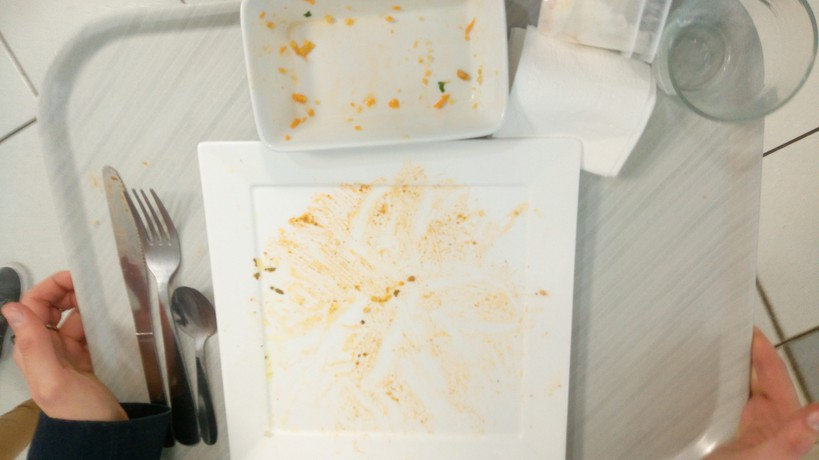cup: (666, 1, 812, 146)
cutlery: (84, 153, 244, 455)
trash: (501, 28, 663, 179)
